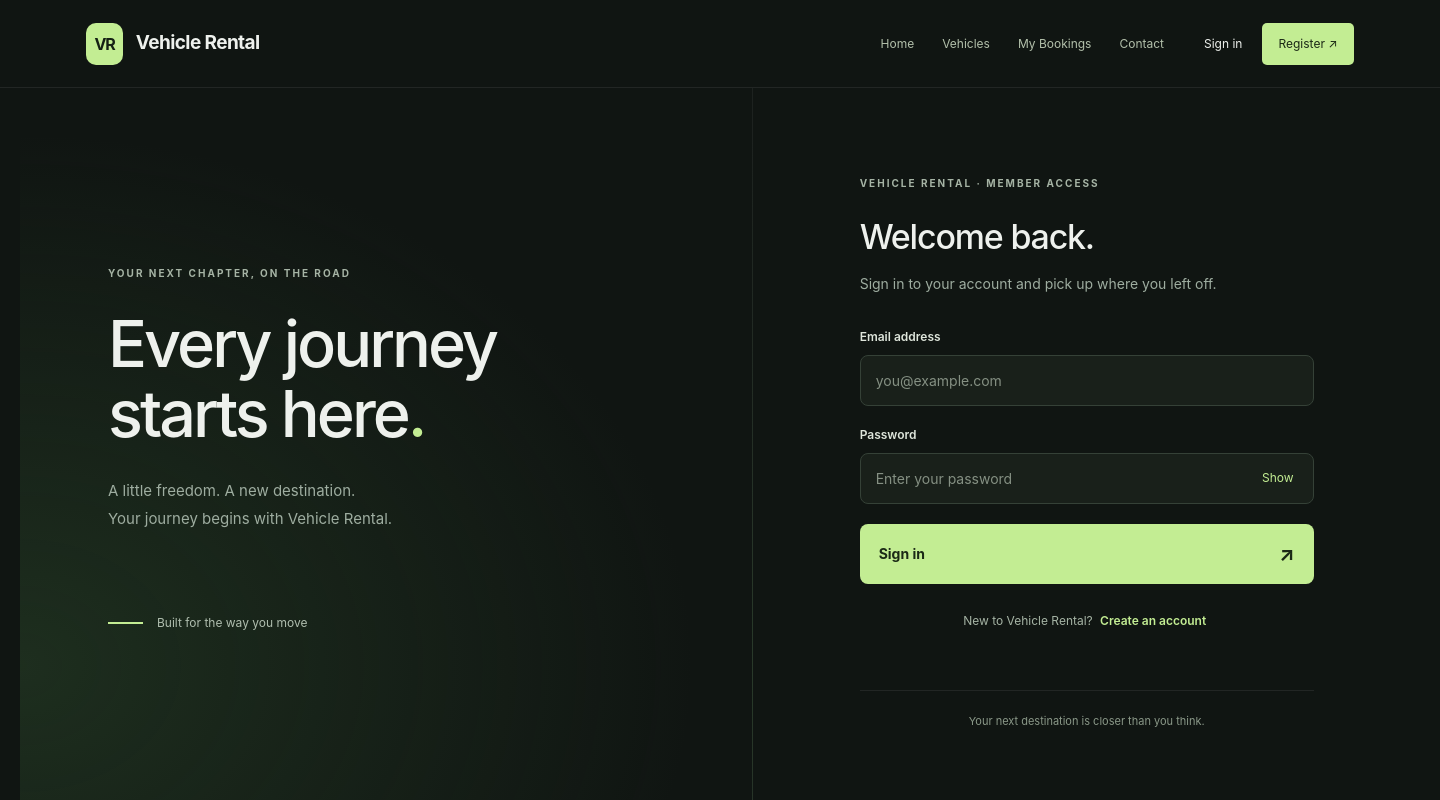
authentication UI › navigates from login to the database-backed dashboard
The width and height of the screenshot is (1440, 800).
Expected: the heading "Welcome back." is shown, x1=860 y1=216 x2=1094 y2=257
Type "driver@example.com" into the field labelled "Email address" at point(1087, 380), box x1=860 y1=355 x2=1314 y2=406
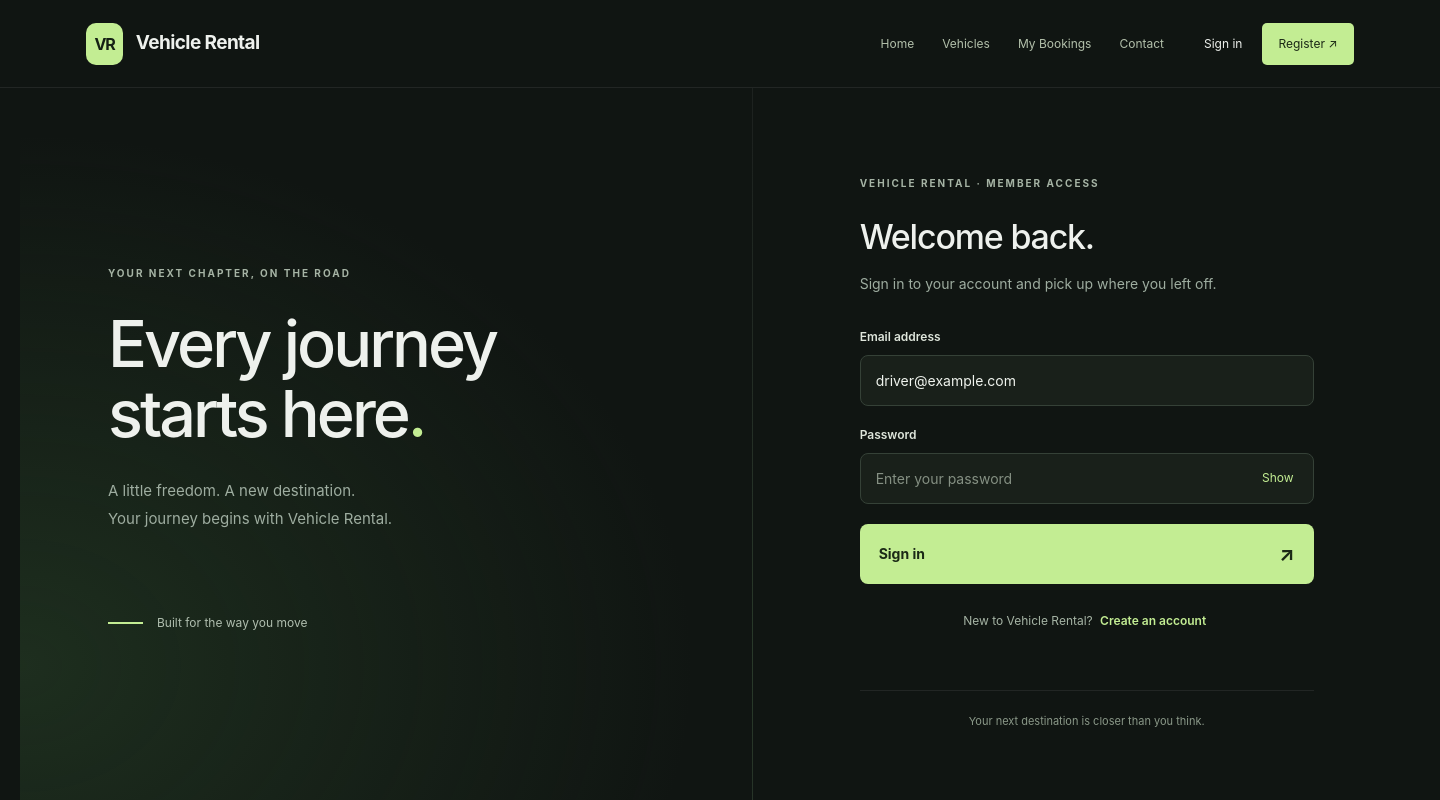
Type "Password123" into the password field labelled "Password" at point(1087, 478), box x1=860 y1=453 x2=1314 y2=504
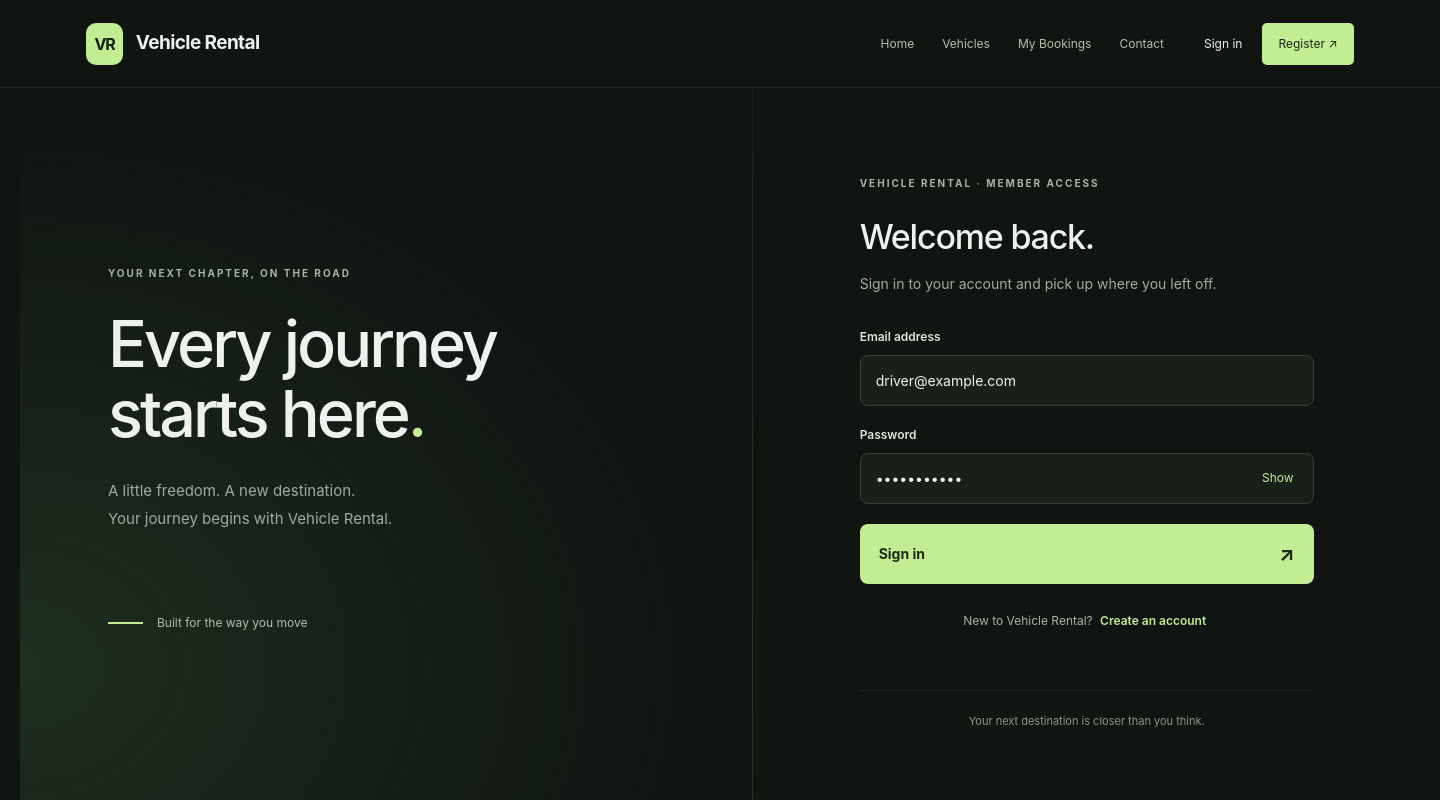
Submit the form "Sign in", box x1=860 y1=328 x2=1314 y2=658
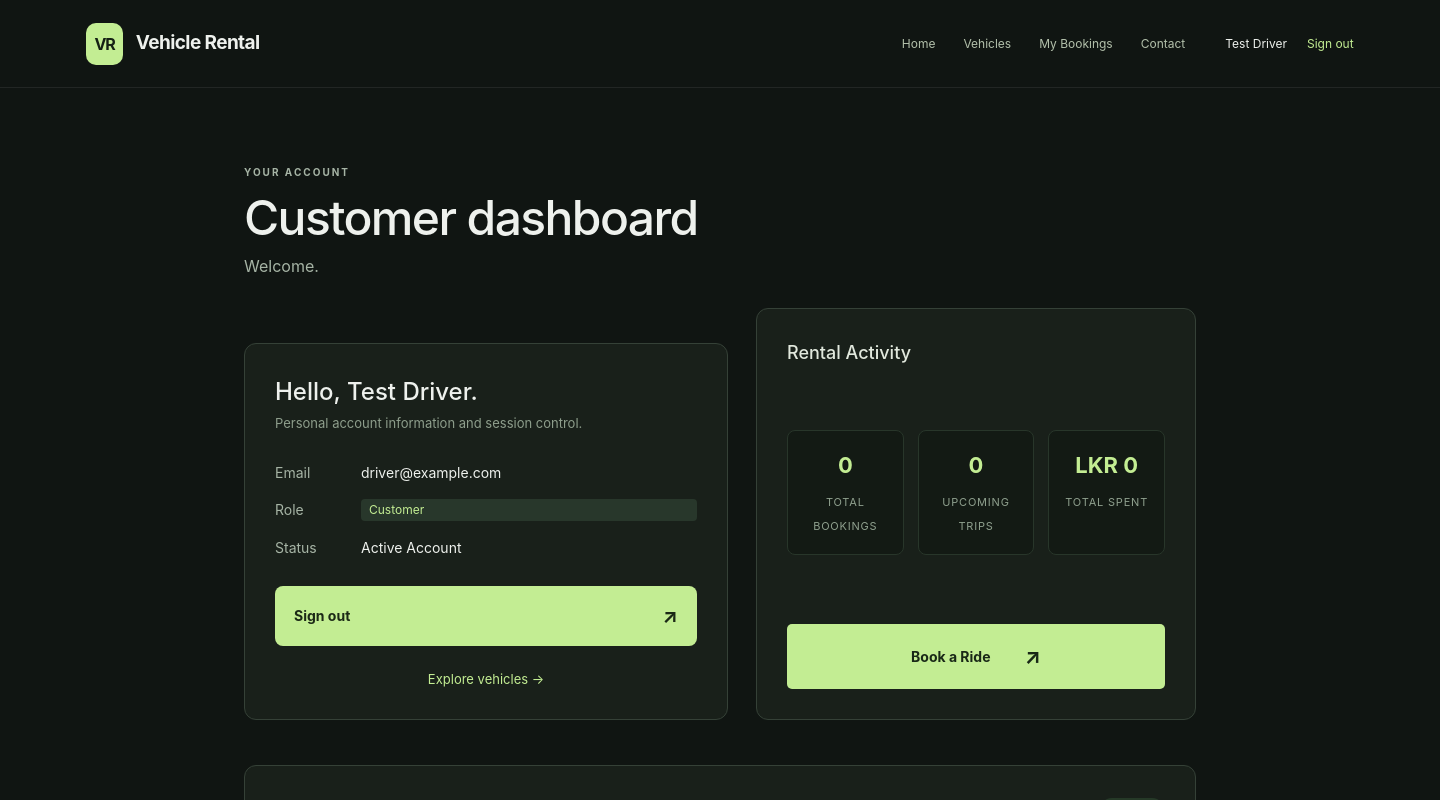
Now the heading "Customer dashboard" is shown, box x1=244 y1=188 x2=698 y2=247
